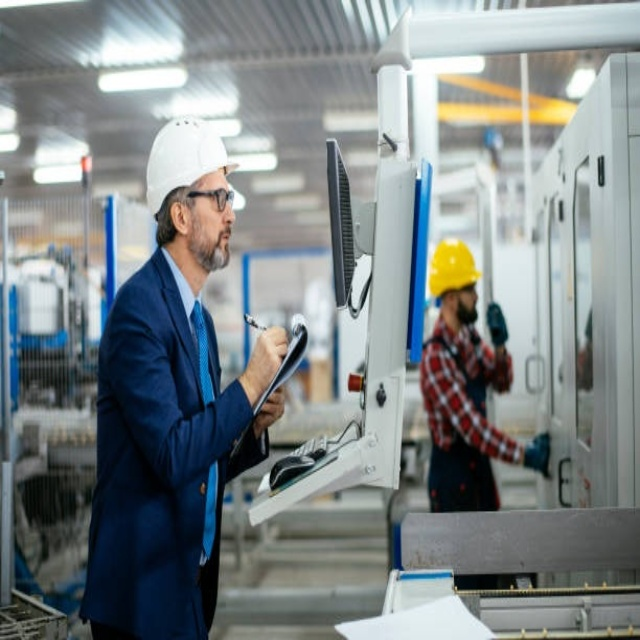Gafas: (181, 188, 234, 211)
Guantes: (523, 431, 551, 478), (486, 302, 509, 347)
Sin_guantes: (244, 320, 290, 397), (251, 385, 286, 438)
Sin_mascara: (204, 220, 233, 264)
